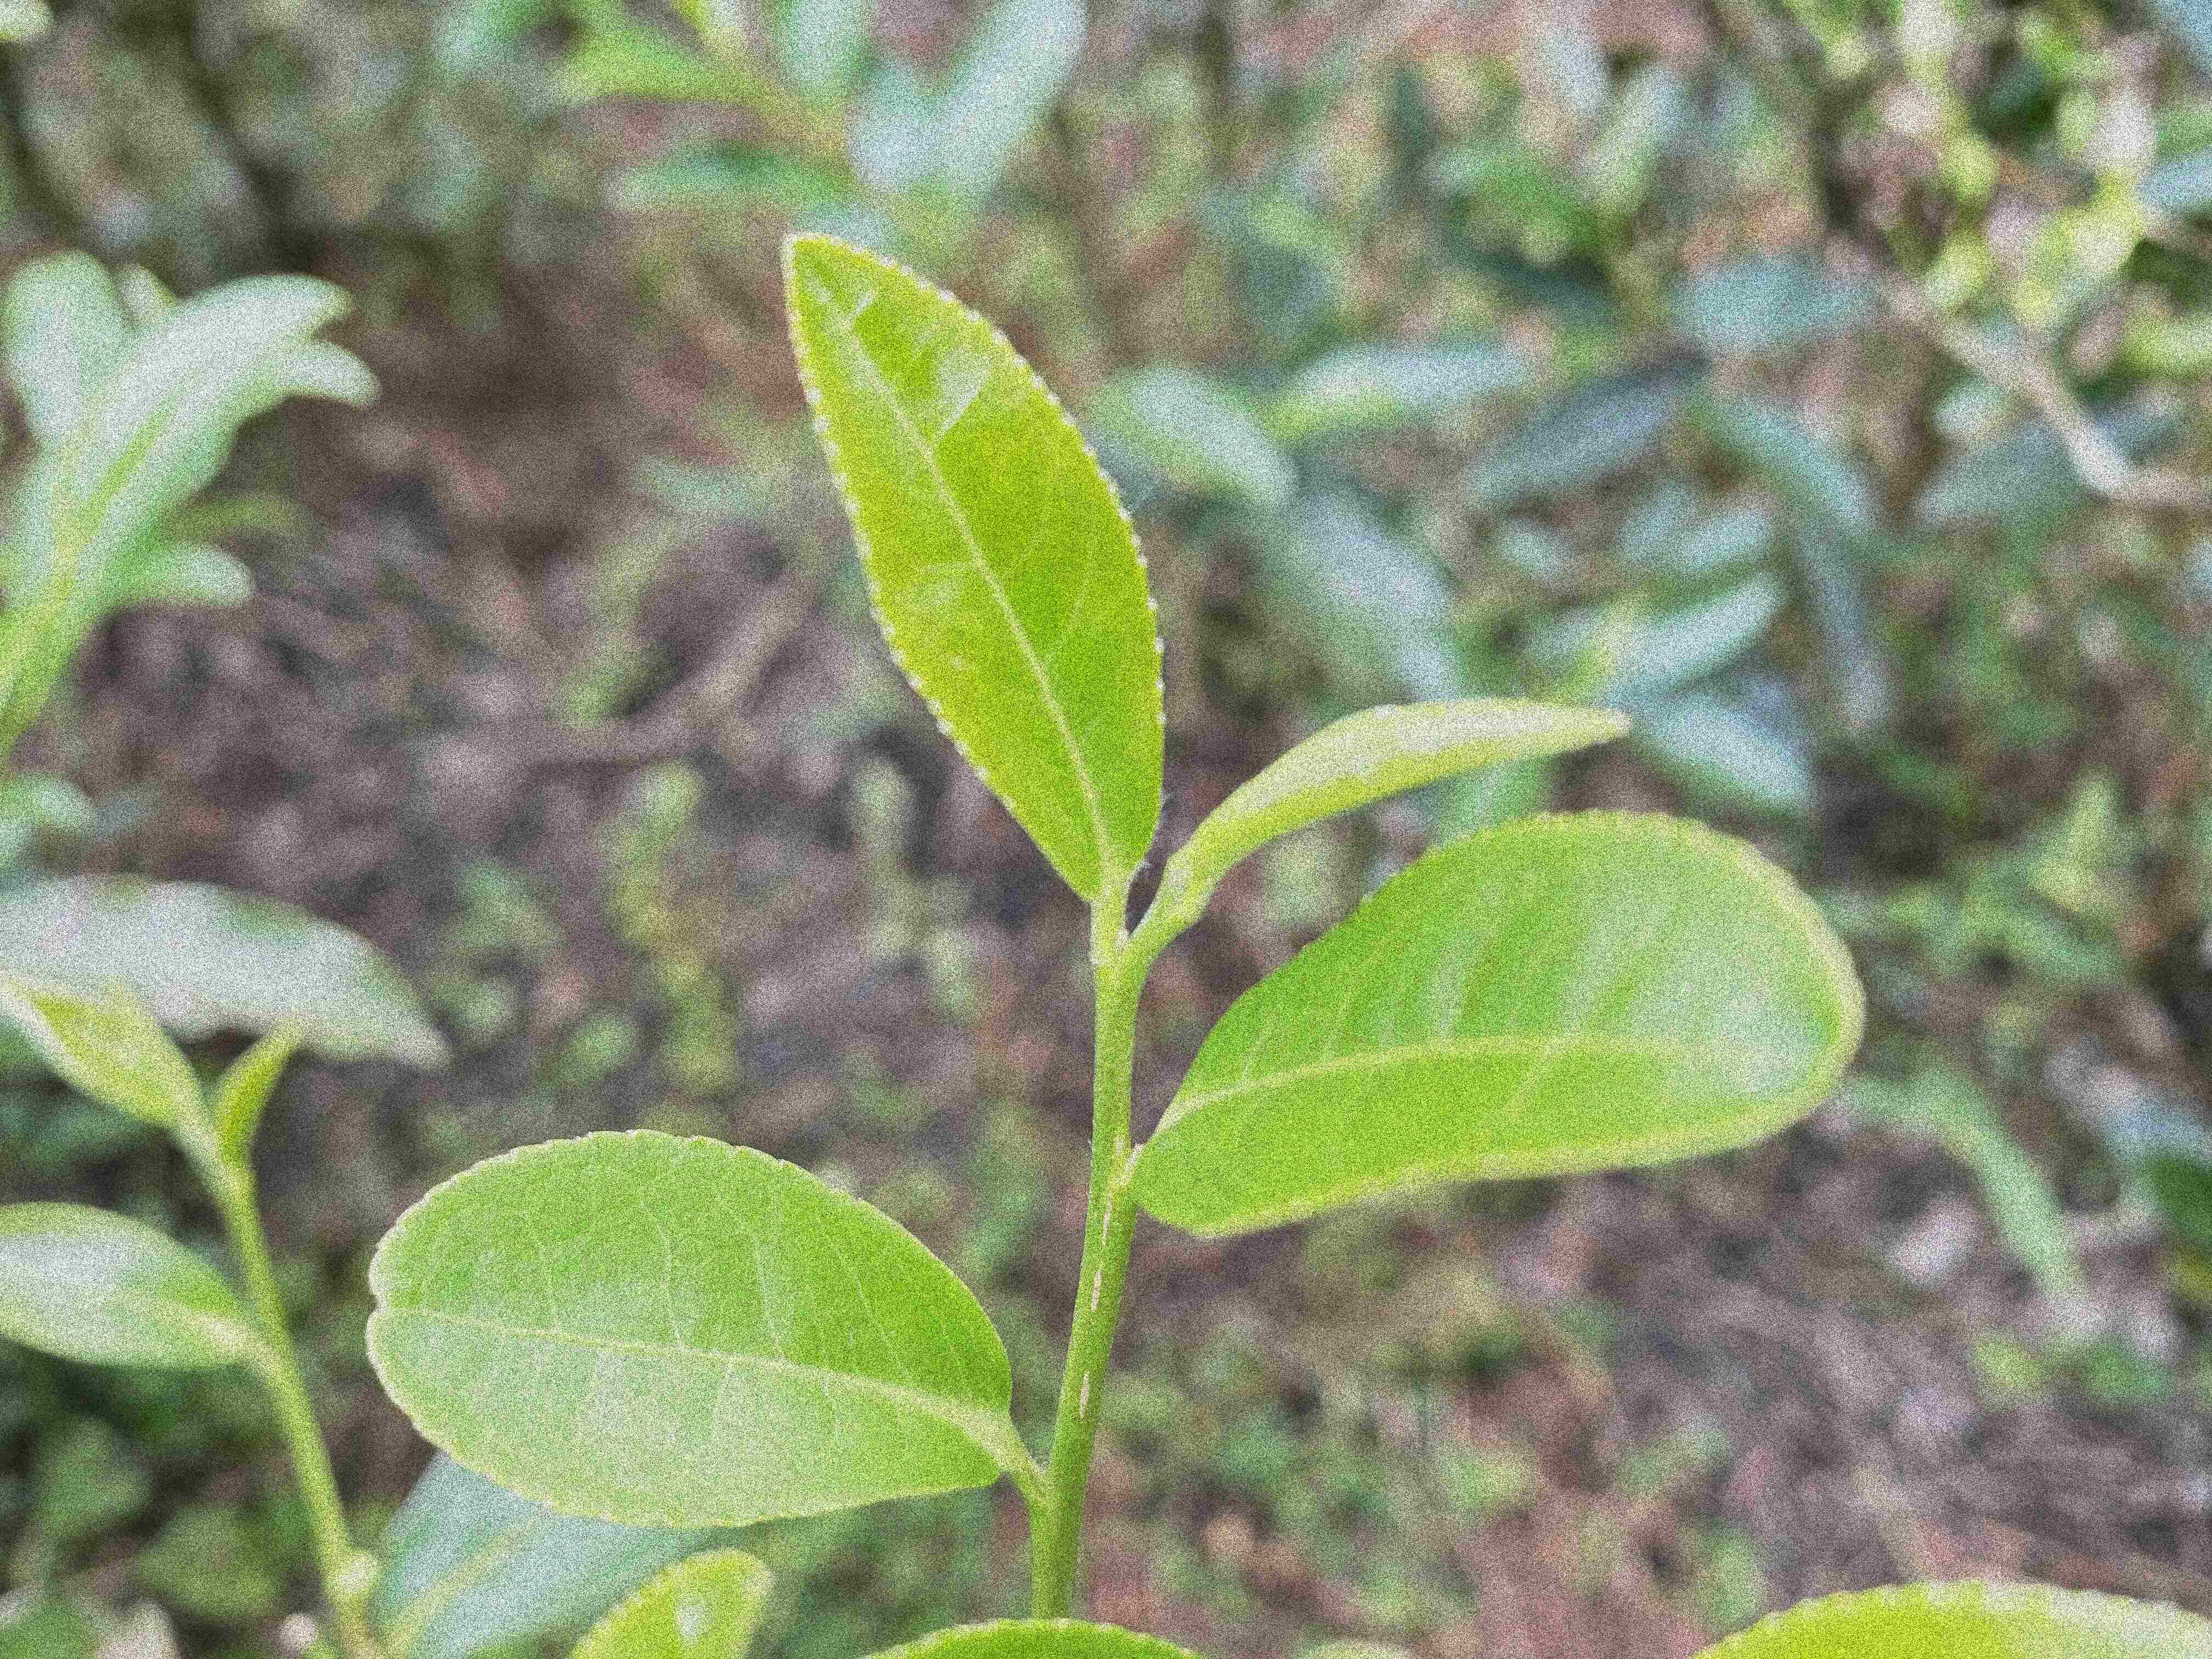healthy: (1136, 803, 1869, 1239), (362, 1124, 1026, 1528), (782, 237, 1169, 896)
